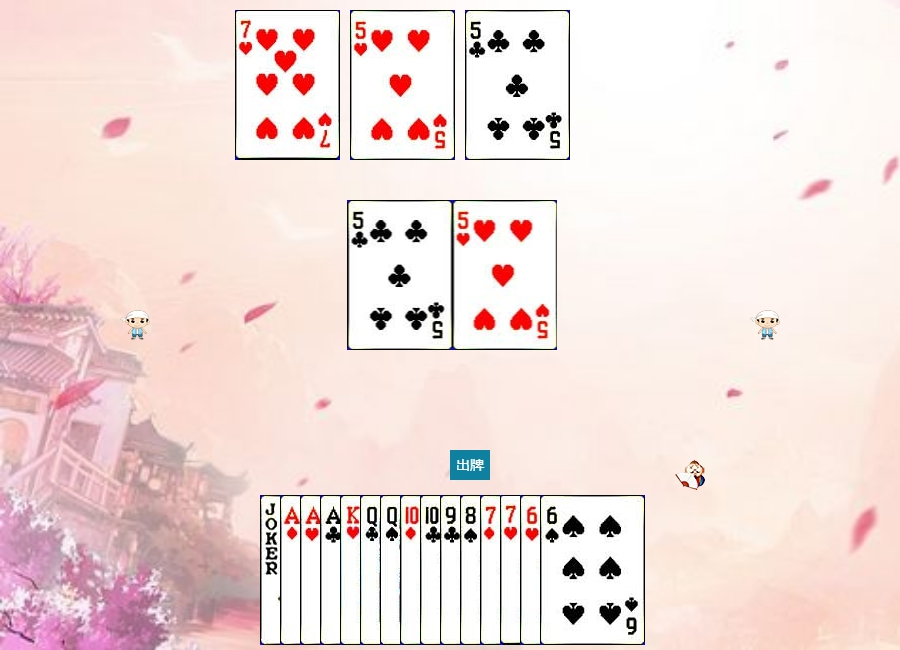10~1: (400, 495, 505, 645)
10~2: (420, 495, 525, 645)
12~2: (360, 495, 465, 645)
12~4: (380, 495, 485, 645)
13~3: (340, 495, 445, 645)
14~1: (280, 495, 385, 645)
14~2: (320, 495, 425, 645)
14~3: (300, 495, 405, 645)
17~3: (260, 495, 365, 645)
5~2: (465, 10, 570, 160), (348, 200, 453, 350)
5~3: (350, 10, 455, 160), (453, 200, 558, 350)
6~3: (520, 495, 625, 645)
6~4: (540, 495, 645, 645)
7~1: (480, 495, 585, 645)
7~3: (235, 10, 340, 160), (500, 495, 605, 645)
8~4: (460, 495, 565, 645)
9~2: (440, 495, 545, 645)
